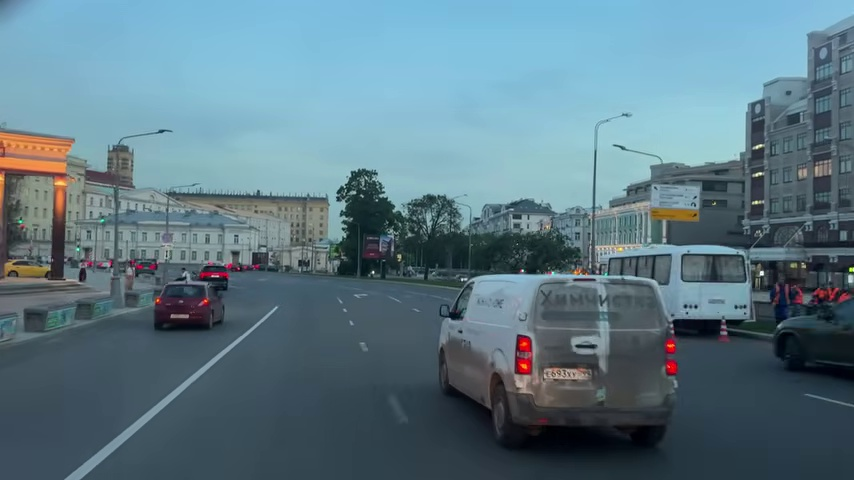apagada: (154, 125, 171, 138), (612, 142, 629, 155), (618, 108, 632, 121)
